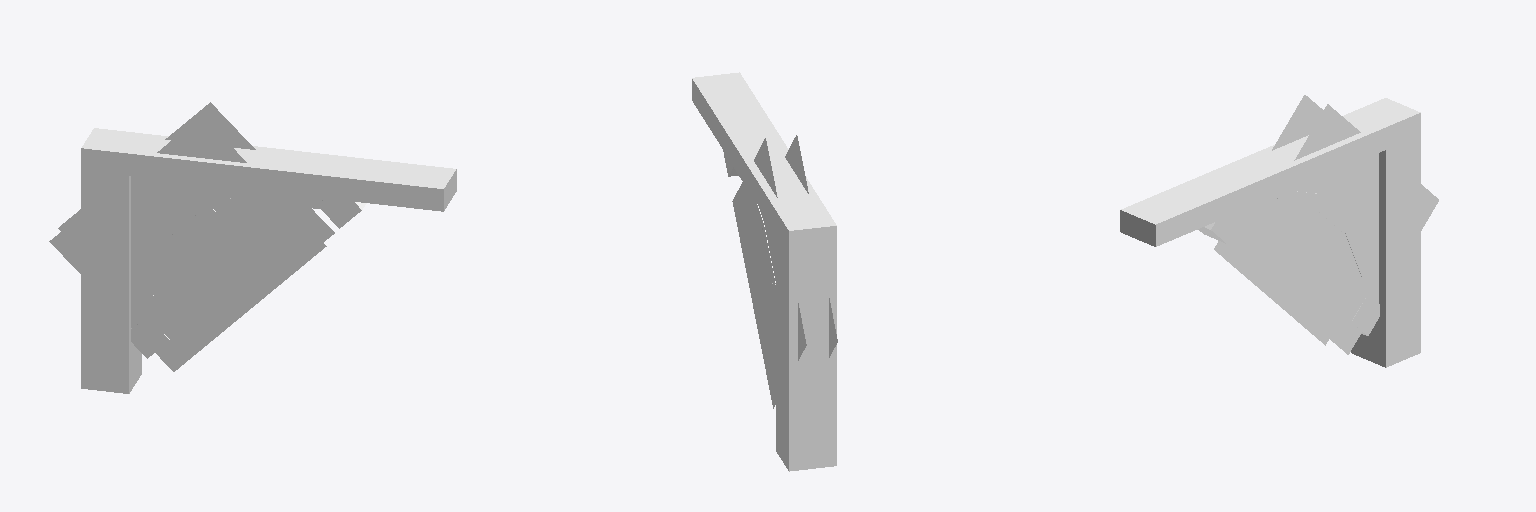
The model's file is white_painted_corbel_diagonal.obj.
3 renders of one model, left to right at view 1: azimuth 30°, elevation 25°; view 2: azimuth 150°, elevation 25°; view 3: azimuth 270°, elevation 25°, orthographic.
Parts seen in each view (by area): view 1: cube.001, cube.000, cube, cube.004, hexadecagon.003, cube.002, hexadecagon.002, hexadecagon, cube.003, hexadecagon.000; view 2: cube.000, cube.001, cube, cube.004; view 3: cube.001, cube.000, cube, cube.004, hexadecagon.002, cube.003, cube.002, hexadecagon, hexadecagon.003.
Boxes of the visible parts, x1=… form: cube.001: x1=49, y1=102, x2=334, y2=371; cube.000: x1=81, y1=128, x2=141, y2=393; cube: x1=129, y1=133, x2=373, y2=202; cube.004: x1=362, y1=160, x2=456, y2=211; hexadecagon.003: x1=164, y1=205, x2=219, y2=252; cube.002: x1=131, y1=317, x2=169, y2=358; hexadecagon.002: x1=140, y1=242, x2=176, y2=298; hexadecagon: x1=209, y1=191, x2=268, y2=217; cube.003: x1=317, y1=198, x2=366, y2=228; hexadecagon.000: x1=267, y1=192, x2=324, y2=208; cube.000: x1=776, y1=205, x2=836, y2=471; cube.001: x1=732, y1=135, x2=837, y2=408; cube: x1=714, y1=107, x2=823, y2=231; cube.004: x1=692, y1=72, x2=760, y2=134; cube.001: x1=1214, y1=95, x2=1438, y2=354; cube.000: x1=1351, y1=98, x2=1420, y2=367; cube: x1=1181, y1=113, x2=1385, y2=221; cube.004: x1=1120, y1=184, x2=1215, y2=246; hexadecagon.002: x1=1345, y1=223, x2=1373, y2=279; cube.003: x1=1198, y1=212, x2=1243, y2=243; cube.002: x1=1352, y1=294, x2=1379, y2=335; hexadecagon: x1=1276, y1=191, x2=1322, y2=209; hexadecagon.003: x1=1317, y1=195, x2=1355, y2=234.
Size of the model in its own units: 1.2 by 1.18 by 1.2.